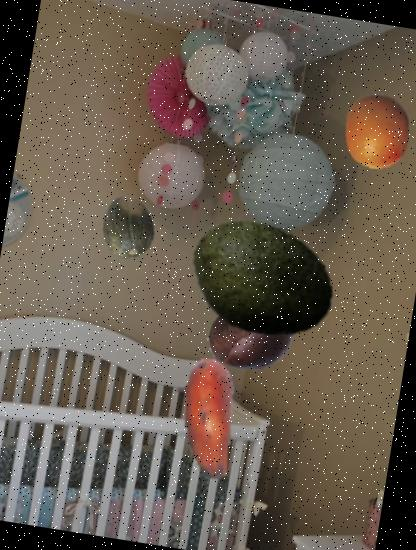Avocado: (178, 196, 346, 364)
Banana: (134, 348, 276, 492)
Chestnut: (202, 286, 302, 386)
Grapefruit: (334, 88, 416, 175)
Melon: (95, 192, 169, 266)
